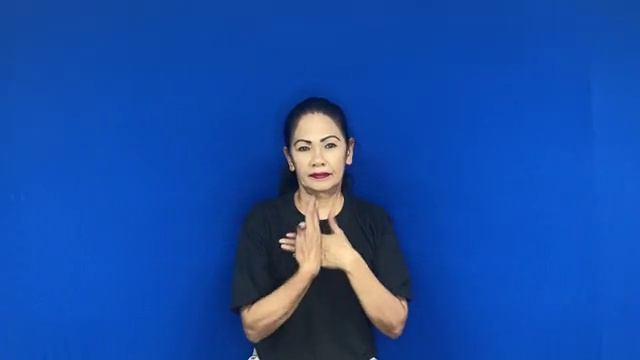bread: (263, 189, 377, 289)
